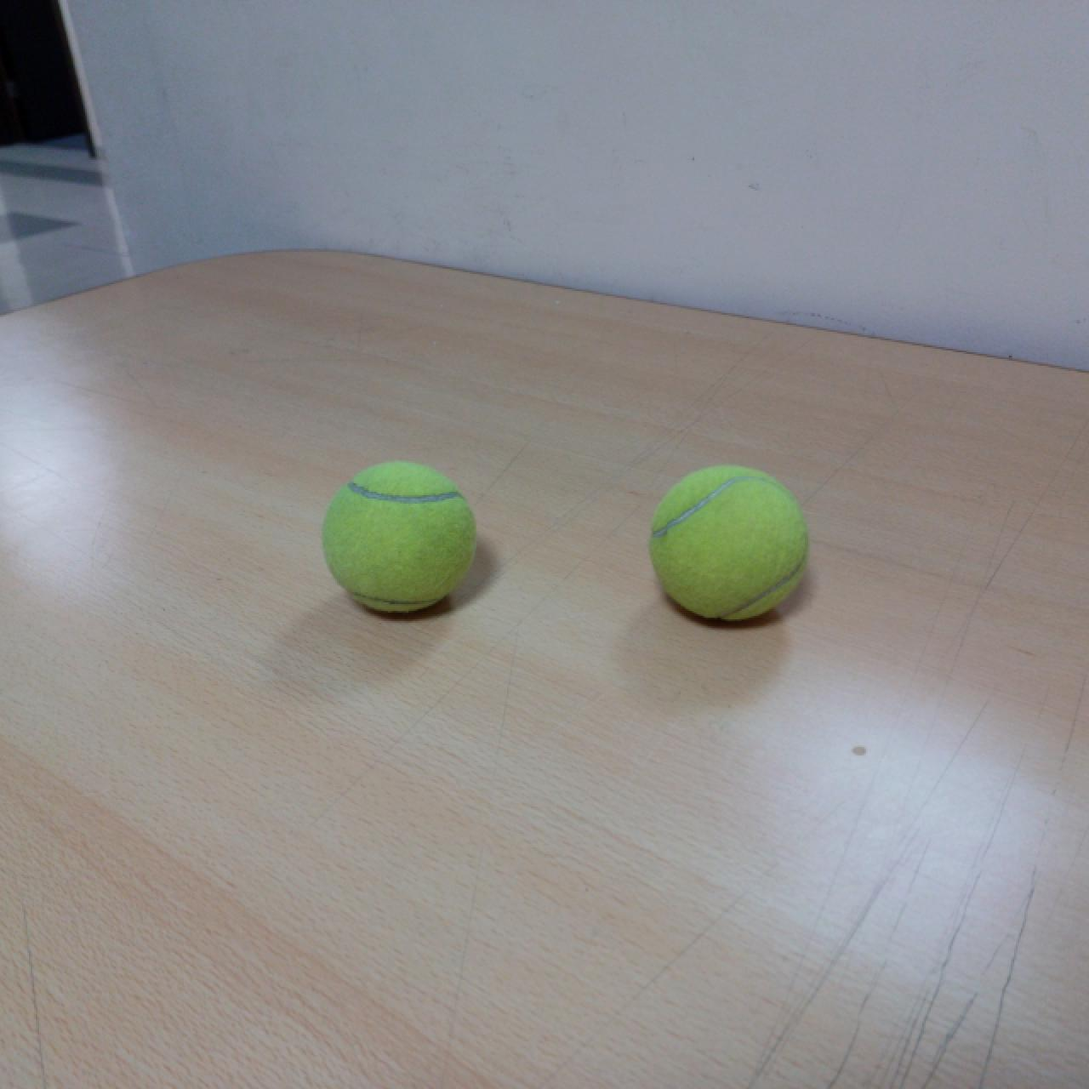tennis-ball: (654, 462, 812, 630), (326, 458, 472, 619)
